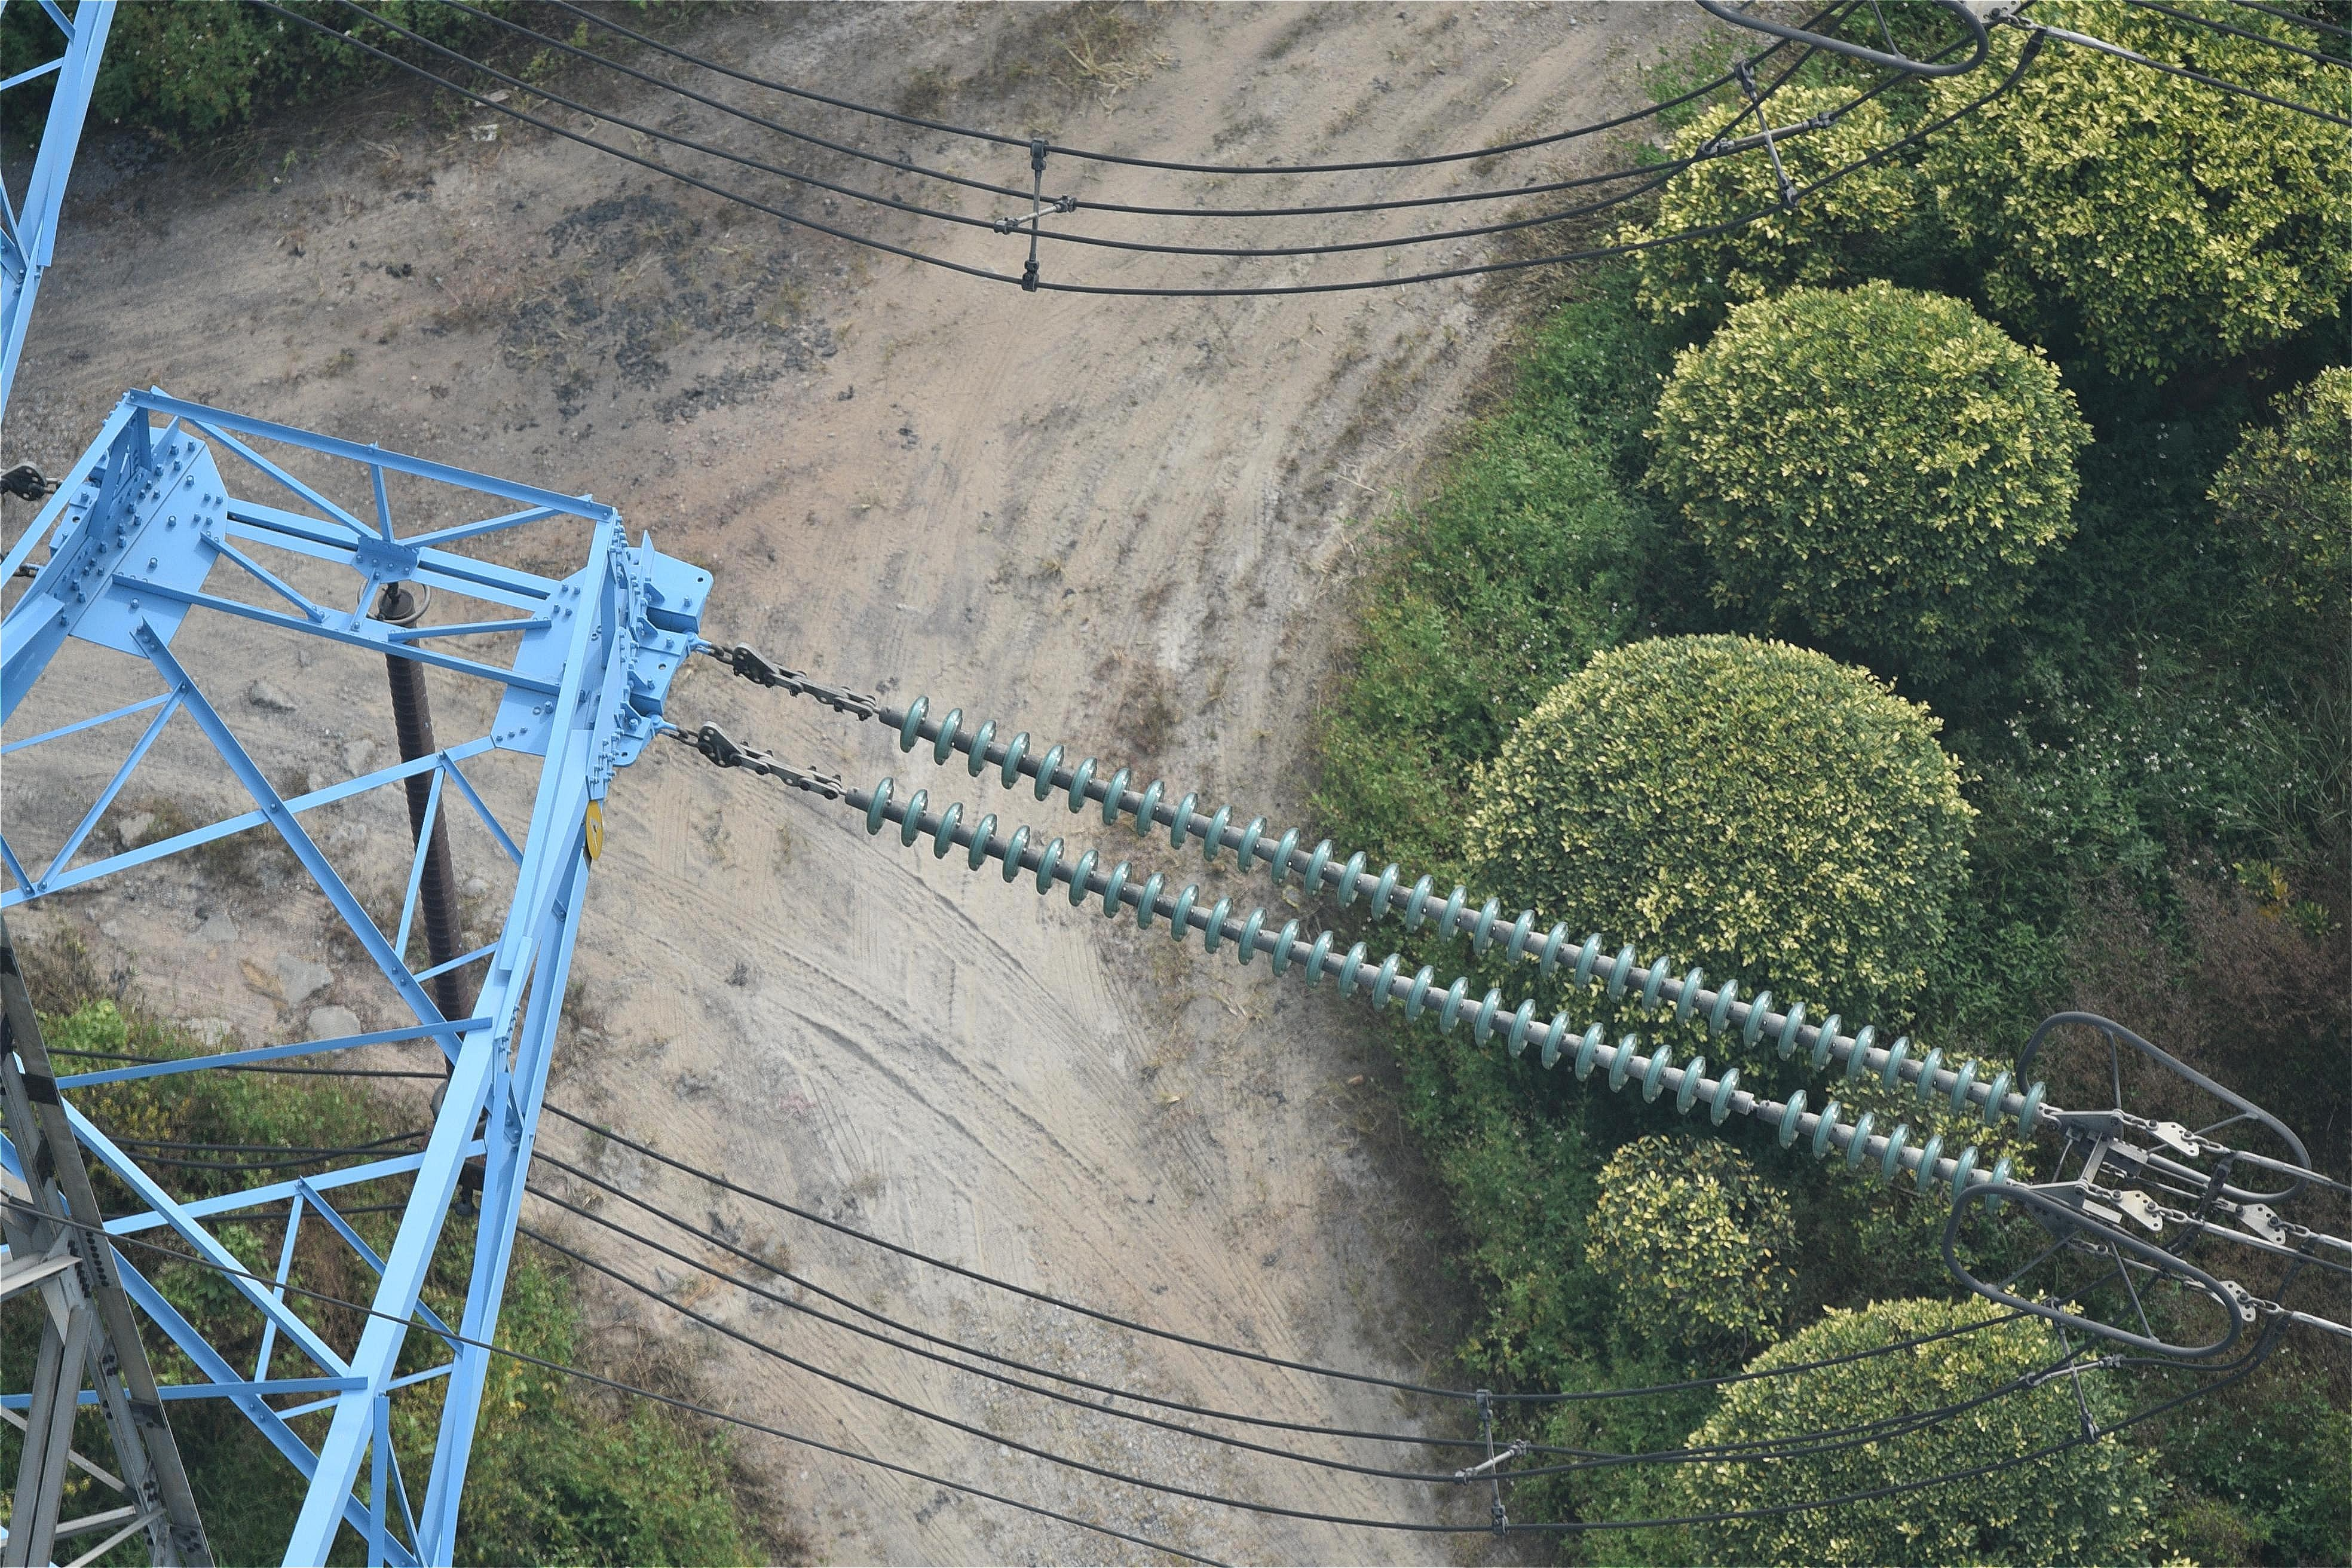insultor3: (794, 654, 2060, 1192)
